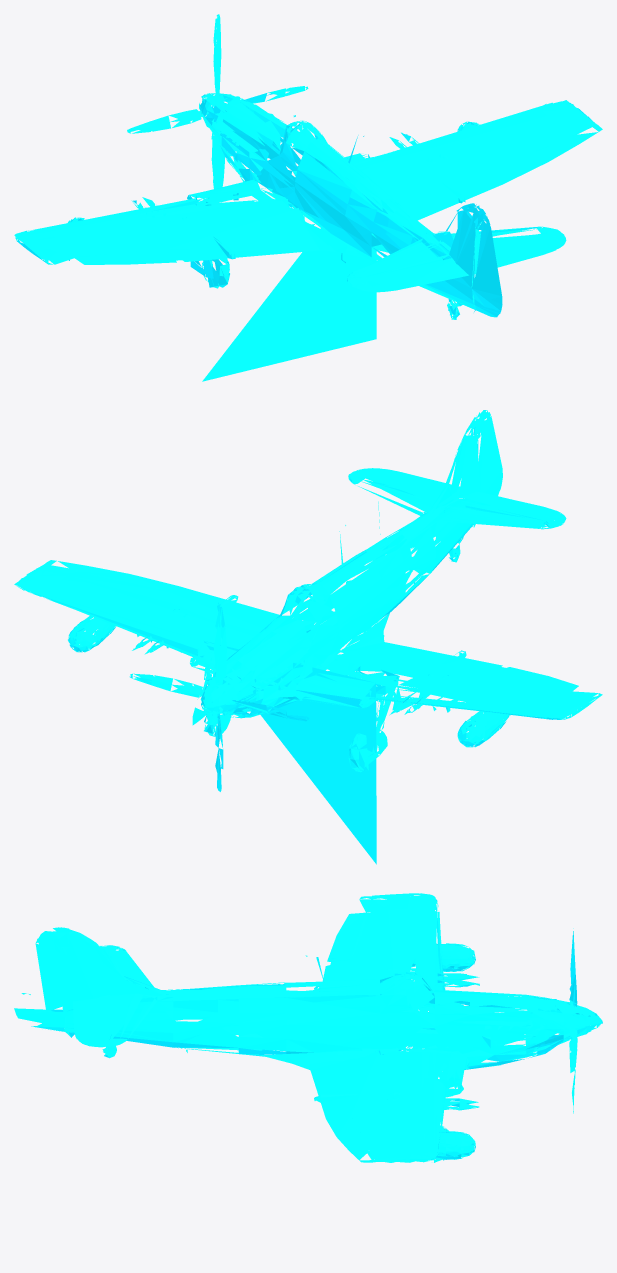
File: PBAB123.glb
3 renders of one model, top to bottom at view 1: azimuth 30°, elevation 25°; view 2: azimuth 150°, elevation 25°; view 3: azimuth 270°, elevation 25°, orthographic.
Visible parts, largest first — view 1: misc; view 2: misc; view 3: misc.
Part boxes in pixels (x1,y1,x2,y2): misc: (14,14,602,381); misc: (14,410,602,864); misc: (14,893,602,1162).
Size of the model in its own units: 0.8415 by 0.427 by 0.7875.
